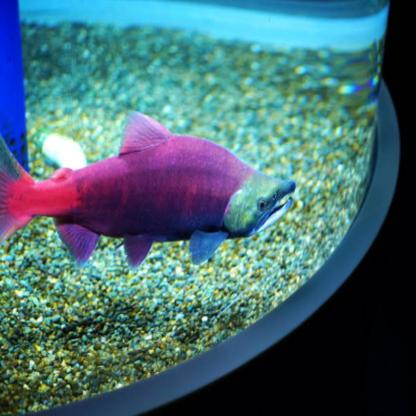sockeye: (3, 130, 291, 284)
